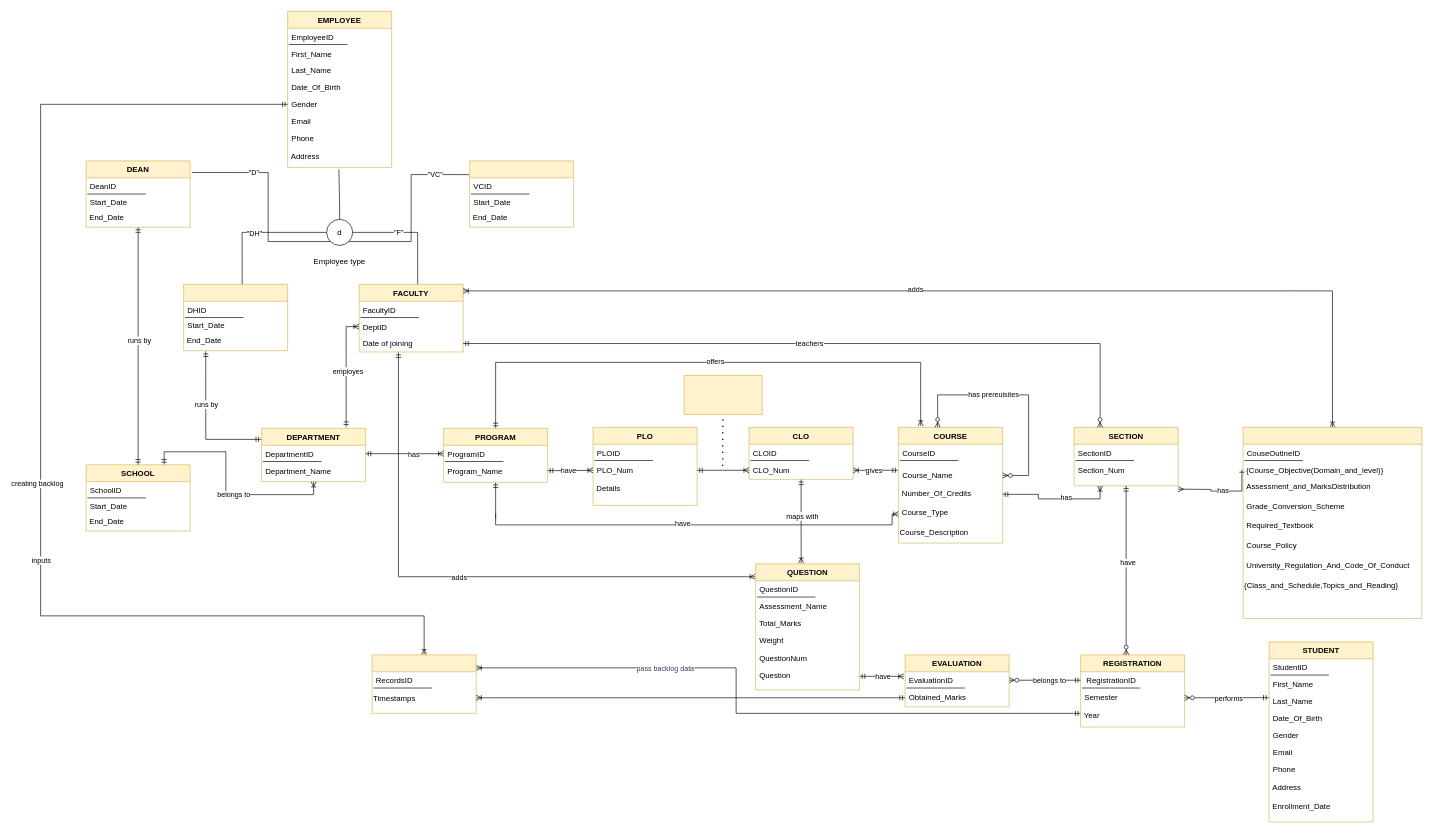
The diagram is 1433 pixels wide and 833 high, and some of its shapes have lost their labels. The shapes that lost their labels are listed below. From the top down, each one's box as (x1, y1, x2, y2) in pixels, then its label:
(469, 160, 574, 227): VICECHANCELLOR
(183, 284, 288, 351): DEPARTMENTHEAD
(683, 375, 762, 414): PLO_CLO co-relation
(1242, 427, 1422, 618): COURSE OUTLNE
(371, 654, 476, 713): BACKLOG RECORDS
